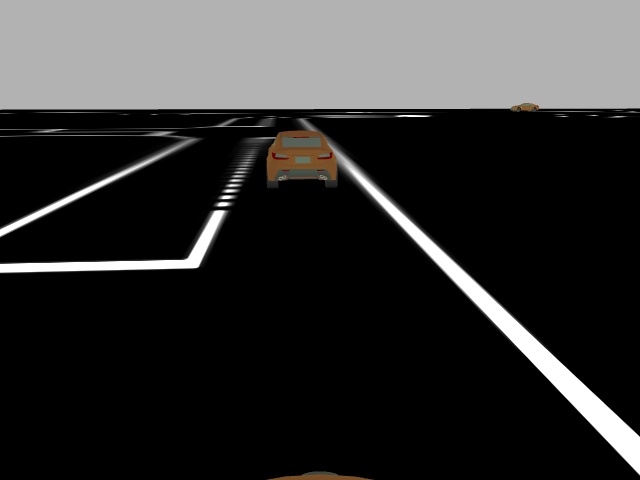obstacle_car: (264, 128, 340, 192)
